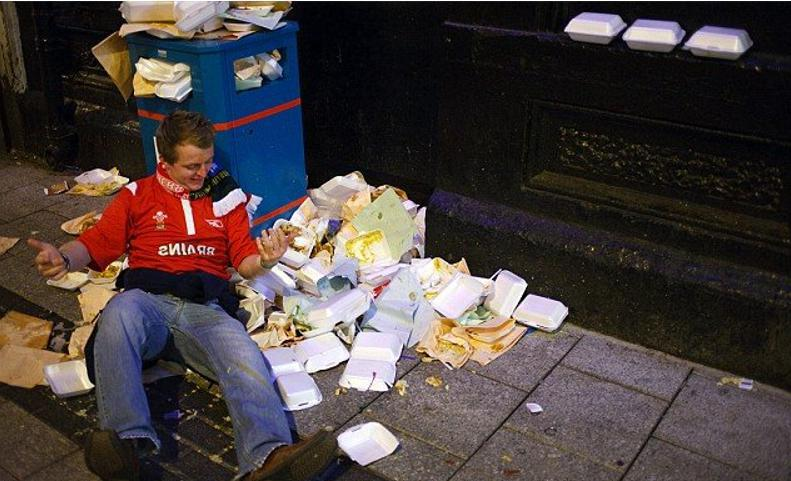Drunk: (171, 143, 213, 190)
